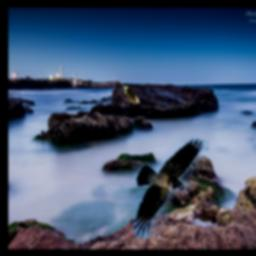Crow: (132, 138, 208, 238)
Cuckoo: (119, 79, 142, 104)
